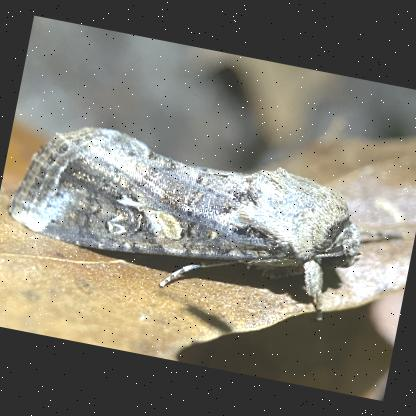Fall Armyworm Moth: (0, 107, 416, 339)
